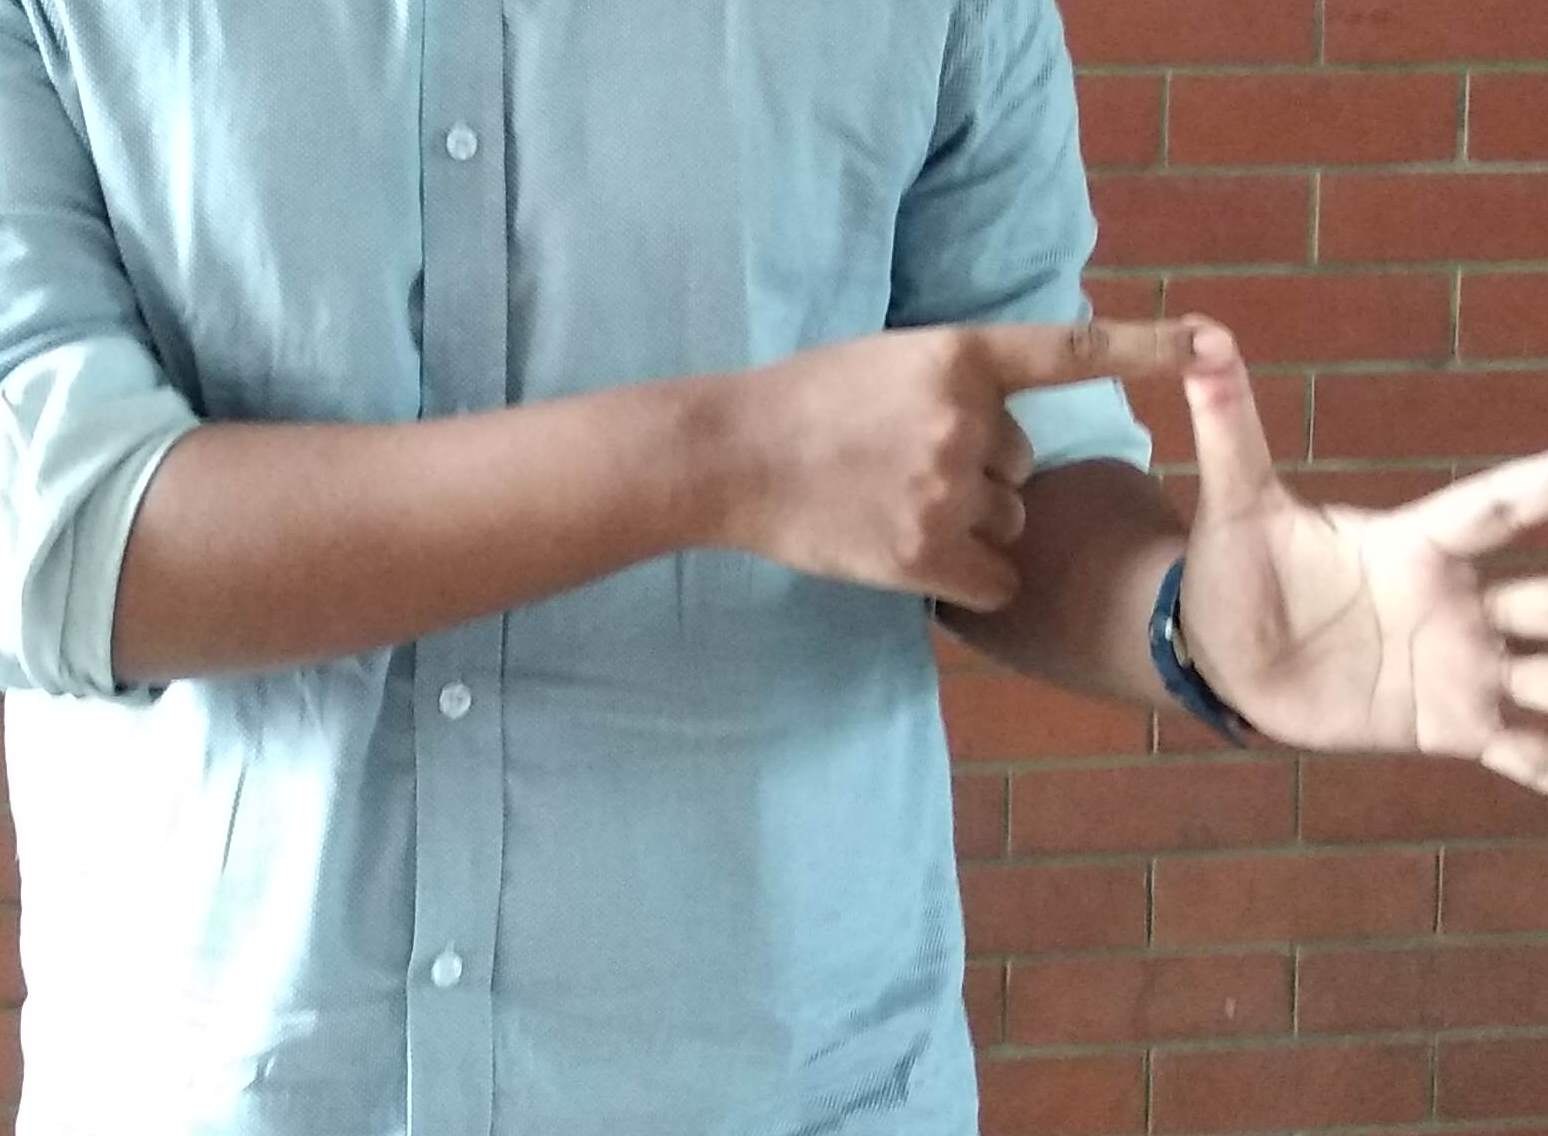a: (858, 295, 1548, 798)
